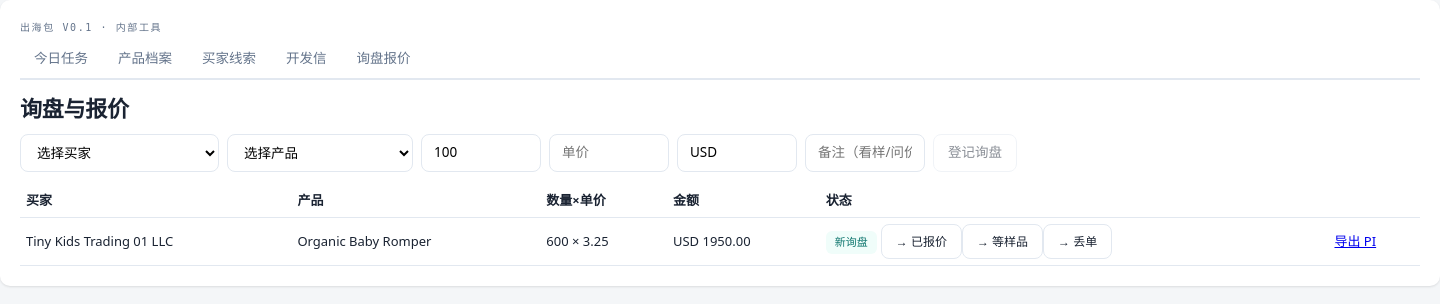
Test: 出海包页面 › 询盘：只给合法下一步，PI 链接指向 pdf
Expected: the row with test id "kit-inquiry-3" shows "USD 1950.00", [673,232,751,250]
Expected: the button "→ 赢单" is not shown
Click the button "→ 已报价".
click(921, 241)  # box [881,224,962,259]
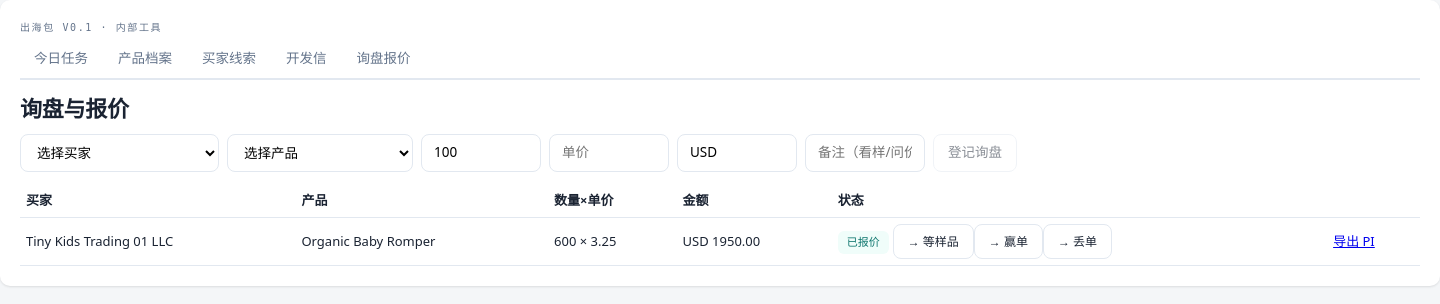
Now the text "已报价" is shown, box [838,231,889,254]
